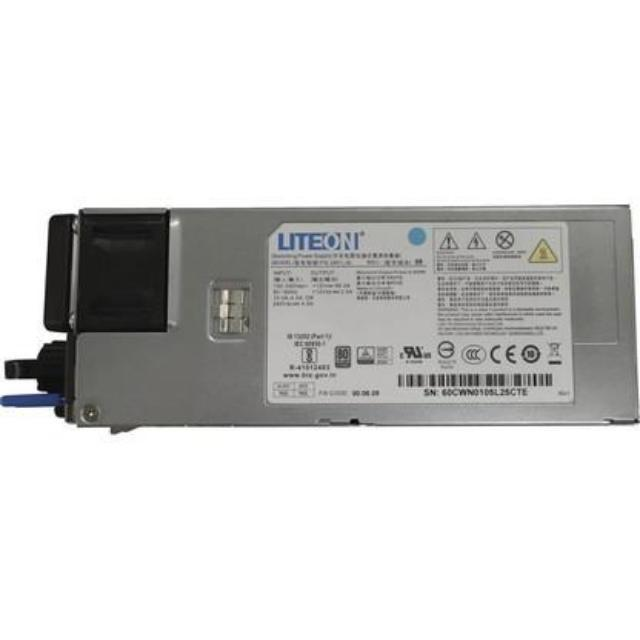PSU: (25, 194, 640, 452)
